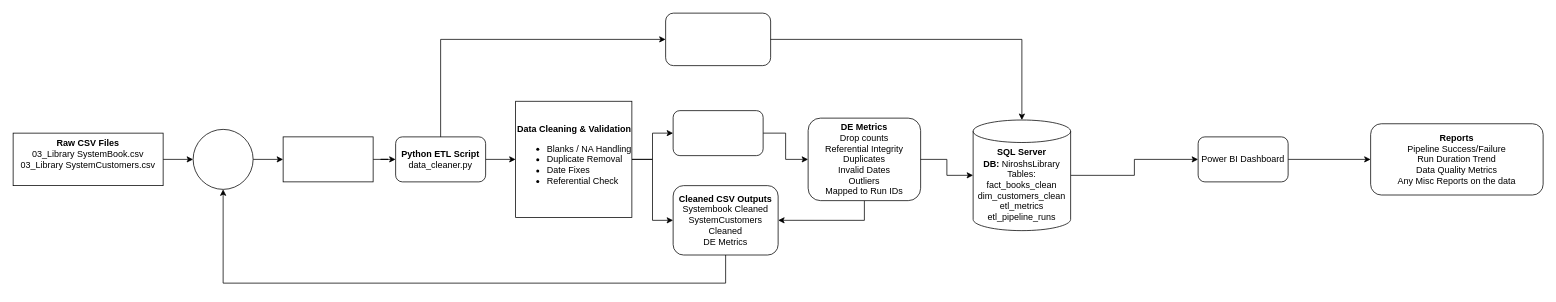
Some shapes in this 1556 by 302 pixel diagram are drawn without their labels. Each missing label, with the centre of its shape:
"CSV Storage (Input & Output)" goes at point 222,159.
"Docker_Container library_cleaner" goes at point 327,159.
"Enriched Data Days Borrowed" goes at point 717,133.
"Pipeline Run Logging Start / End Times Duration Status" goes at point 718,39.
